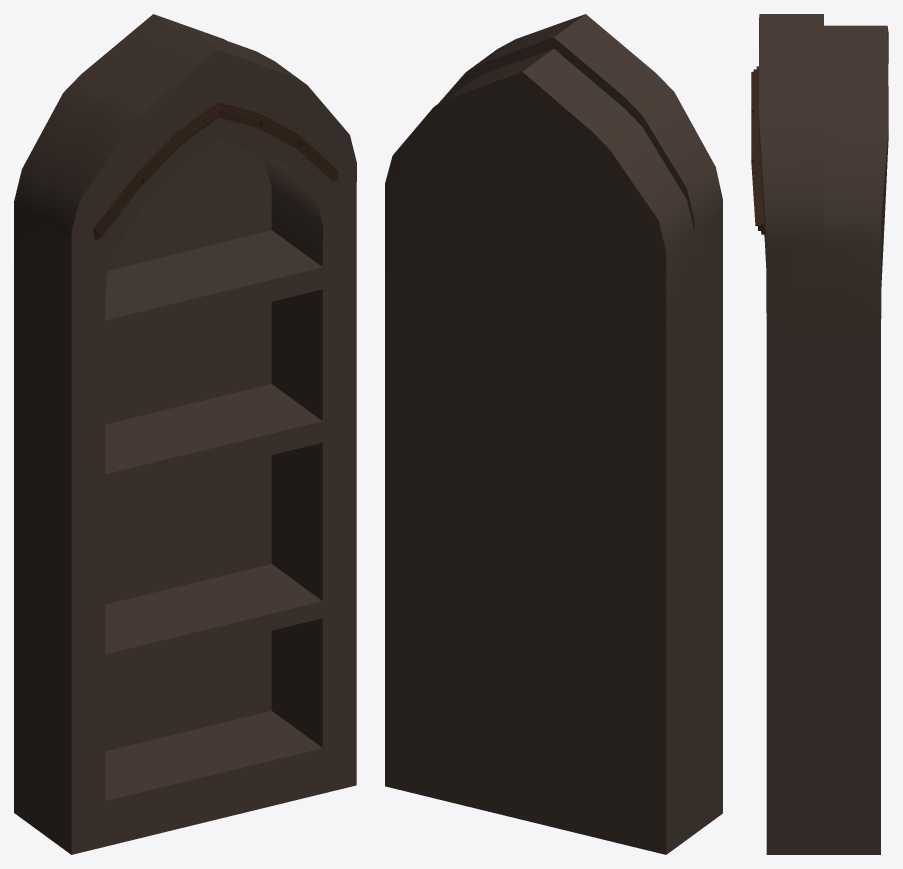
Rendered from Library 2 Empty .fbx.
The picture shows the model from 3 angles, left to right: view 1: azimuth 30°, elevation 25°; view 2: azimuth 150°, elevation 25°; view 3: azimuth 270°, elevation 25°; orthographic projection.
Parts seen in each view (by area): view 1: Library 4.001; view 2: Library 4.001; view 3: Library 4.001.
Part boxes in pixels (<box>): Library 4.001: <box>14,14,356,854</box>; Library 4.001: <box>385,14,722,854</box>; Library 4.001: <box>751,14,888,854</box>.
Size of the model in its own units: 200 by 519 by 83.75.
